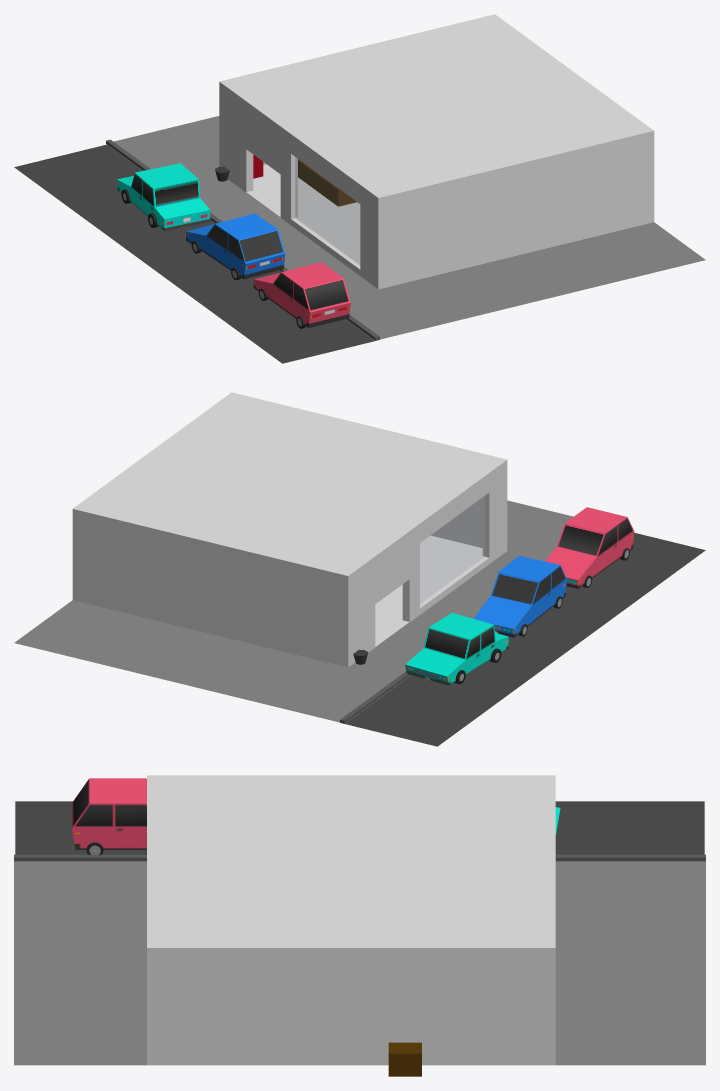
Rendered from cafe_model.fbx.
3 views of the same model, one above another, from view 1: azimuth 30°, elevation 25°; view 2: azimuth 150°, elevation 25°; view 3: azimuth 270°, elevation 25° (orthographic). The views are drawn at different scales.
Visible parts, largest first — view 1: roof, walls, sidewalk, road, car02, car05, car03, glass, Floor, desk, curb; view 2: roof, walls, sidewalk, road, car02, car03, car05, glass, Floor; view 3: roof, sidewalk, walls, road, car05, curb, desk.
Part boxes in pixels (x1,y1,x2,y2): roof: (219, 14, 654, 204); walls: (219, 88, 654, 289); sidewalk: (106, 116, 705, 340); road: (14, 144, 374, 363); car02: (186, 213, 285, 280); car05: (253, 262, 350, 328); car03: (116, 163, 210, 230); glass: (295, 157, 359, 264); Floor: (246, 164, 360, 262); desk: (298, 159, 356, 206); curb: (106, 139, 379, 340); roof: (72, 392, 507, 582); walls: (72, 466, 507, 667); sidewalk: (14, 500, 573, 723); road: (344, 533, 705, 746); car02: (473, 555, 566, 637); car03: (405, 612, 508, 685); car05: (545, 507, 634, 588); glass: (420, 496, 484, 603); Floor: (375, 535, 482, 646); roof: (147, 775, 555, 956); sidewalk: (14, 861, 705, 1065); walls: (147, 956, 555, 1065); road: (15, 801, 704, 854); car05: (72, 778, 146, 854); curb: (14, 854, 705, 861); desk: (388, 1042, 421, 1076).
Bounding box in the file's own units: 2445 × 489 × 2591.
13 materials, 3 textured.
